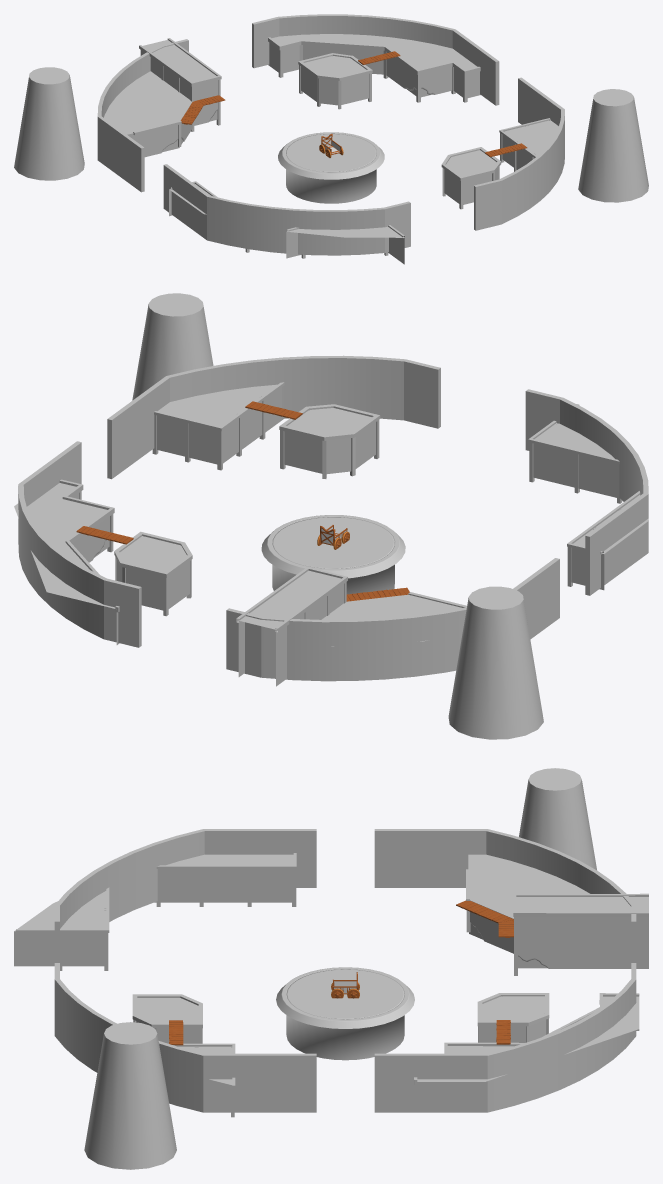
The model's file is level_03.fbx.
3 renders of one model, top to bottom at view 1: azimuth 30°, elevation 25°; view 2: azimuth 150°, elevation 25°; view 3: azimuth 270°, elevation 25°, orthographic. The views are drawn at different scales.
Visible parts, largest first — view 1: Cube.007, Cube.022, Cube.066, Cube.001, Cube.011, Cylinder, Cube.012, Cylinder.001, Cube.013, Cube.021, Cube.018, Cube.056 (+4 smaller); view 2: Cube.007, Cube.022, Cube.018, Cube.066, Cylinder.001, Cube.001, Cube.021, Cube.056, Cube.012, Cube.013, Cylinder, Cube.011 (+6 smaller); view 3: Cube.007, Cube.066, Cube.012, Cylinder, Cube.020, Cube.022, Cube.011, Cube.056, Cylinder.001, Cube.013, Cube.021, Cube.001 (+5 smaller).
Boxes of the visible parts, left/top/right/bottom form: Cube.007: left=97, top=14, right=564, bottom=255; Cube.022: left=14, top=67, right=84, bottom=180; Cube.066: left=578, top=89, right=648, bottom=202; Cube.001: left=268, top=34, right=480, bottom=97; Cube.011: left=104, top=71, right=192, bottom=157; Cylinder: left=278, top=132, right=384, bottom=203; Cube.012: left=140, top=40, right=217, bottom=125; Cylinder.001: left=286, top=133, right=376, bottom=171; Cube.013: left=301, top=56, right=368, bottom=105; Cube.021: left=444, top=150, right=498, bottom=204; Cube.018: left=502, top=120, right=558, bottom=169; Cube.056: left=286, top=226, right=404, bottom=264; Cube.007: left=18, top=355, right=648, bottom=681; Cube.022: left=448, top=586, right=543, bottom=739; Cube.018: left=157, top=384, right=283, bottom=464; Cube.066: left=132, top=293, right=213, bottom=400; Cylinder.001: left=272, top=517, right=394, bottom=568; Cube.001: left=14, top=483, right=119, bottom=644; Cube.021: left=284, top=408, right=375, bottom=474; Cube.056: left=533, top=423, right=616, bottom=497; Cube.012: left=238, top=570, right=343, bottom=686; Cube.013: left=117, top=536, right=189, bottom=610; Cylinder: left=261, top=515, right=405, bottom=594; Cube.011: left=321, top=594, right=461, bottom=646; Cube.007: left=54, top=829, right=636, bottom=1112; Cube.066: left=84, top=1022, right=176, bottom=1169; Cube.012: left=516, top=897, right=648, bottom=968; Cylinder: left=276, top=967, right=414, bottom=1060; Cube.020: left=154, top=854, right=293, bottom=902; Cube.022: left=519, top=768, right=596, bottom=870; Cube.011: left=468, top=854, right=589, bottom=953; Cube.056: left=14, top=891, right=106, bottom=966; Cylinder.001: left=286, top=969, right=404, bottom=1019; Cube.013: left=482, top=996, right=546, bottom=1042; Cube.021: left=136, top=998, right=198, bottom=1043; Cube.001: left=417, top=996, right=639, bottom=1081.
Size of what is drawn, in the model's own units: 70.89 by 14.47 by 64.89.
